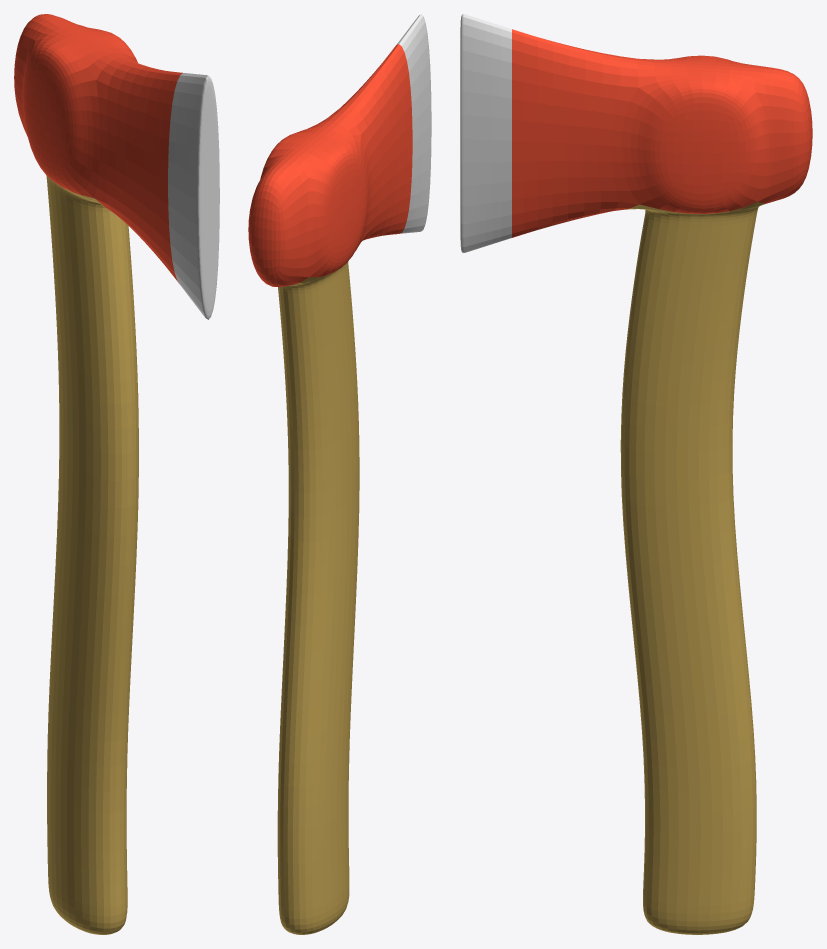
Rendered from Axe.fbx.
The picture shows the model from 3 angles, left to right: view 1: azimuth 30°, elevation 25°; view 2: azimuth 150°, elevation 25°; view 3: azimuth 270°, elevation 25°; orthographic projection. The views are drawn at different scales.
Parts seen in each view (by area): view 1: Cube; view 2: Cube; view 3: Cube.
Boxes of the visible parts, box(x1,y1,x2,y2) form: Cube: box(14, 14, 219, 934); Cube: box(248, 14, 431, 934); Cube: box(460, 14, 812, 934).
Size of the model in its own units: 22.68 by 251 by 87.53.
